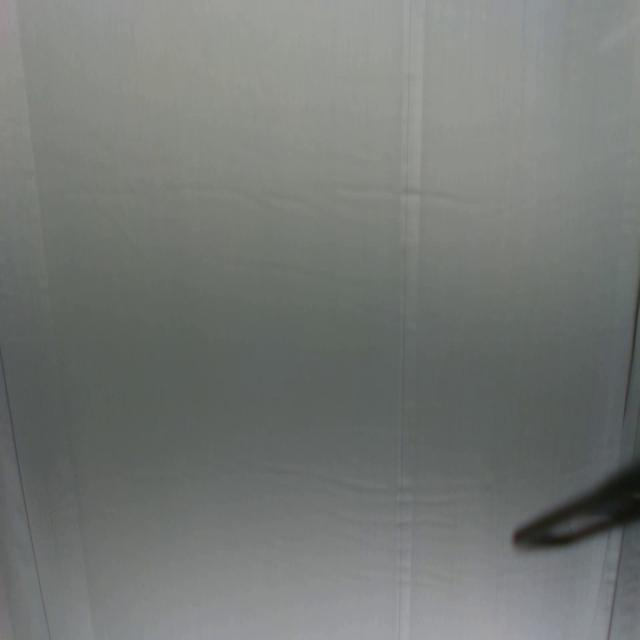crease: (0, 0, 94, 639), (393, 0, 427, 639), (621, 276, 640, 427), (604, 527, 628, 640)
